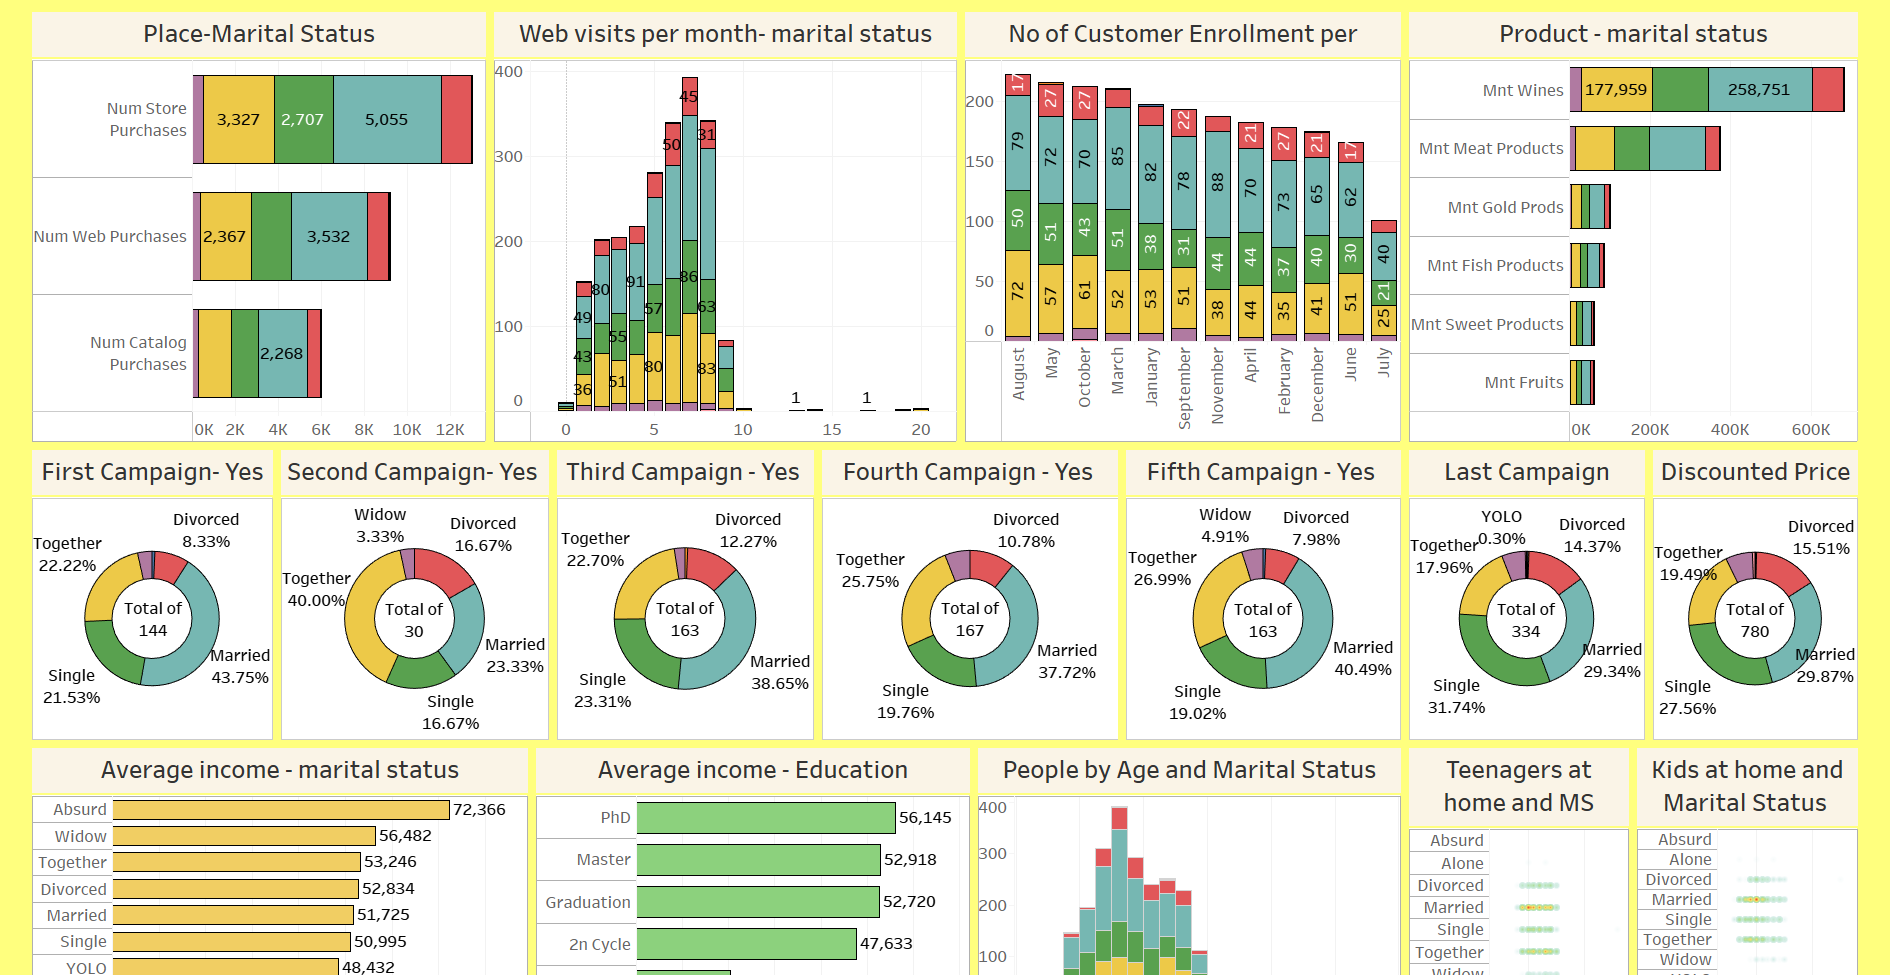

Layout of this report page (visuals, bound fields, positions):
{"tool":"tableau","page":{"name":"Dashboard 1","canvas":[1850,1050],"ordinal":0},"visuals":[{"type":"worksheet","title":"Place-Marital Status","mark":"Automatic","box":[8,8,462.1,437.6]},{"type":"worksheet","title":"No of Customer enrollment per month (2)","mark":"Bar","rows":["ID"],"cols":["NumWebVisitsMonth"],"box":[470,8,471.2,437.6]},{"type":"worksheet","title":"No of Customer enrollment per month","mark":"Bar","rows":["ID"],"cols":["Dt_Customer"],"box":[941.2,8,443.7,437.6]},{"type":"worksheet","title":"Product - marital status","mark":"Bar","box":[1385,8,457,437.6]},{"type":"worksheet","title":"First Campaign- Yes","mark":"Pie","rows":["Calculation_720294523030740995","Calculation_720294523030740995"],"box":[8,445.6,249,298.2]},{"type":"worksheet","title":"Second Campaign- Yes ","mark":"Pie","rows":["Calculation_720294523030740995","Calculation_720294523030740995"],"box":[256.9,445.6,276.1,298.2]},{"type":"worksheet","title":"Third Campaign - Yes ","mark":"Pie","rows":["Calculation_720294523030740995","Calculation_720294523030740995"],"box":[533.1,445.6,264.6,298.2]},{"type":"worksheet","title":"Fourth Campaign - Yes ","mark":"Pie","rows":["Calculation_720294523030740995","Calculation_720294523030740995"],"box":[797.7,445.6,304.7,298.2]},{"type":"worksheet","title":"Fifth Campaign - Yes ","mark":"Pie","rows":["Calculation_720294523030740995","Calculation_720294523030740995"],"box":[1102.4,445.6,282.6,298.2]},{"type":"worksheet","title":"Last Campaign","mark":"Pie","rows":["Calculation_720294523030740995","Calculation_720294523030740995"],"box":[1385,445.6,244,298.2]},{"type":"worksheet","title":"Purchases with discounts","mark":"Pie","rows":["Calculation_720294523030740995","Calculation_720294523030740995"],"box":[1629,445.6,213,298.2]},{"type":"worksheet","title":"Average income - marital status","mark":"Bar","rows":["Marital_Status"],"cols":["Income"],"box":[8,743.8,504,298.2]},{"type":"worksheet","title":"Average income - Education","mark":"Bar","rows":["Education"],"cols":["Income"],"box":[512,743.8,442,298.2]},{"type":"worksheet","title":"People by Age and Marital Status","mark":"Automatic","rows":["Calculation_720294523056316420"],"cols":["Age (bin)"],"box":[954,743.8,431,298.2]},{"type":"worksheet","title":"Teenagers at home and Marital Status (2)","mark":"Heatmap","rows":["Marital_Status"],"cols":["Age (bin)"],"box":[1385,743.8,228.5,298.2]},{"type":"worksheet","title":"Kids at home and Marital Status ","mark":"Heatmap","rows":["Marital_Status"],"cols":["Age (bin)"],"box":[1613.5,743.8,228.5,298.2]}]}

Visuals, with their boxes on the page's 1850x1050 design canvas (x1, y1, x2, y2). These are canvas units, not pixel positions in the 1890x975 screenshot, which may show the page scaled, cropped or inside an application window:
"Place-Marital Status" worksheet: (8, 8, 470, 446)
"No of Customer enrollment per month (2)" worksheet (Bar marks): (470, 8, 941, 446)
"No of Customer enrollment per month" worksheet (Bar marks): (941, 8, 1385, 446)
"Product - marital status" worksheet (Bar marks): (1385, 8, 1842, 446)
"First Campaign- Yes" worksheet (Pie marks): (8, 446, 257, 744)
"Second Campaign- Yes " worksheet (Pie marks): (257, 446, 533, 744)
"Third Campaign - Yes " worksheet (Pie marks): (533, 446, 798, 744)
"Fourth Campaign - Yes " worksheet (Pie marks): (798, 446, 1102, 744)
"Fifth Campaign - Yes " worksheet (Pie marks): (1102, 446, 1385, 744)
"Last Campaign" worksheet (Pie marks): (1385, 446, 1629, 744)
"Purchases with discounts" worksheet (Pie marks): (1629, 446, 1842, 744)
"Average income - marital status" worksheet (Bar marks): (8, 744, 512, 1042)
"Average income - Education" worksheet (Bar marks): (512, 744, 954, 1042)
"People by Age and Marital Status" worksheet: (954, 744, 1385, 1042)
"Teenagers at home and Marital Status (2)" worksheet (Heatmap marks): (1385, 744, 1614, 1042)
"Kids at home and Marital Status " worksheet (Heatmap marks): (1614, 744, 1842, 1042)
